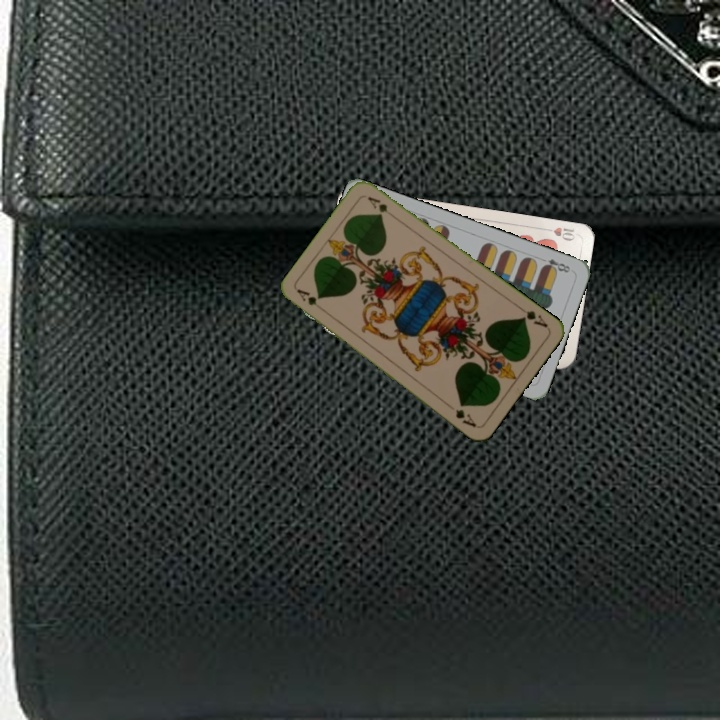E8: (536, 254, 573, 275)
GA: (293, 285, 328, 315), (515, 303, 551, 330)
H10: (538, 223, 578, 244)
